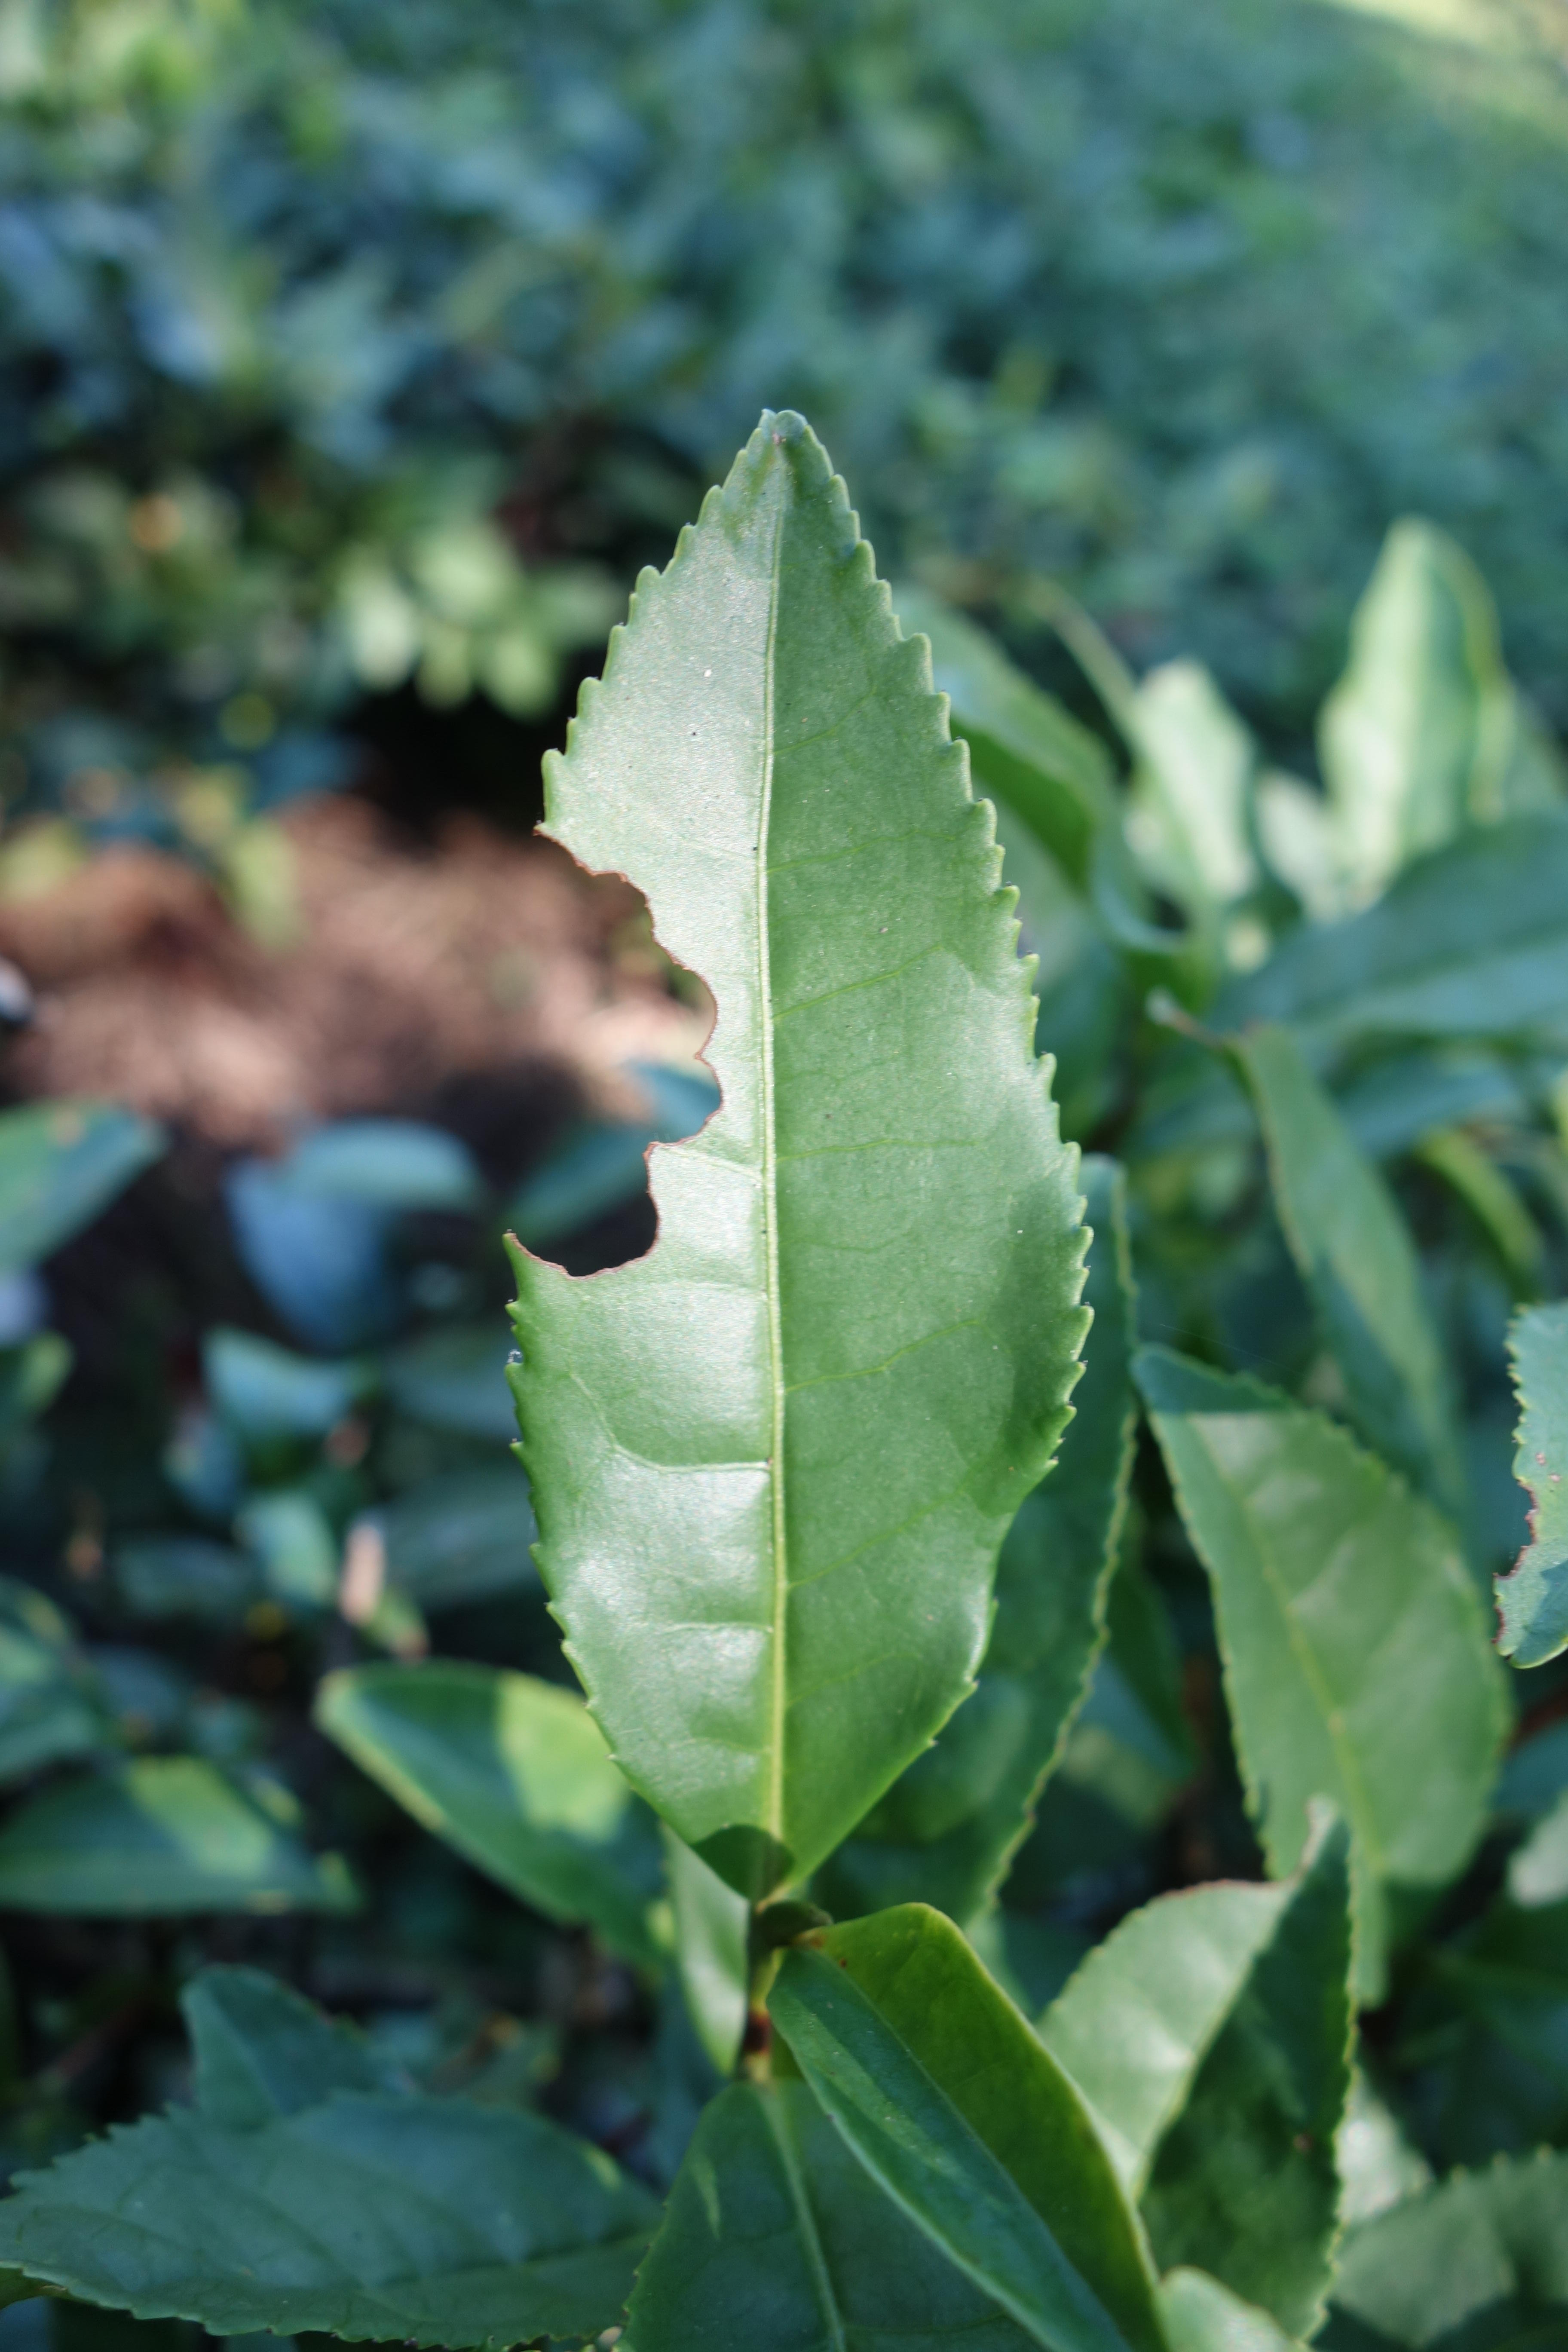chihuo_low: (495, 413, 1101, 1907)
